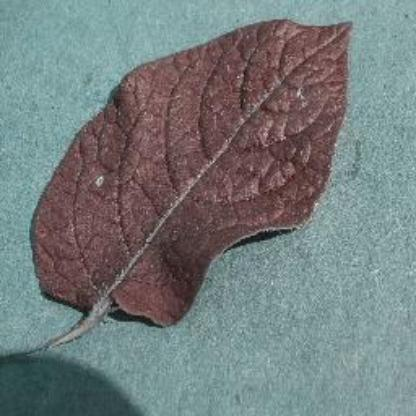Healthy-plant: (29, 12, 371, 340)
